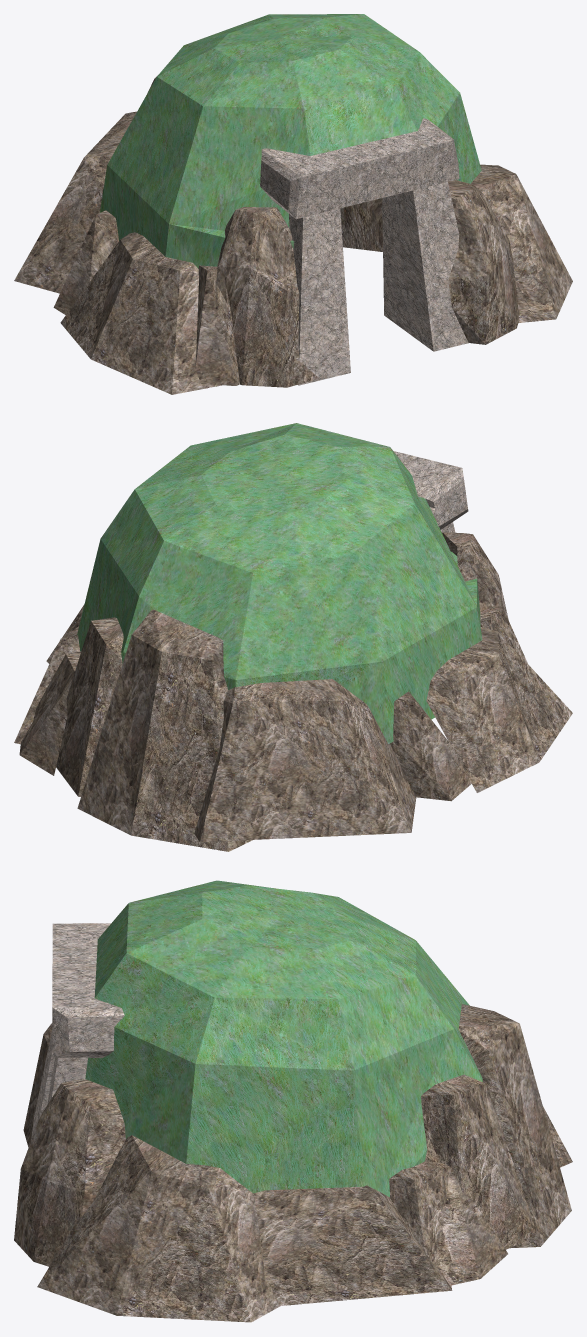
Rendered from thm_dath_mtn_clan_hut_s01_l2.fbx.
3 views of the same model, one above another, from view 1: azimuth 30°, elevation 25°; view 2: azimuth 150°, elevation 25°; view 3: azimuth 270°, elevation 25° (orthographic). The views are drawn at different scales.
Parts seen in each view (by area): view 1: mesh_node; view 2: mesh_node; view 3: mesh_node.
Part boxes in pixels (left/top/right/bottom): mesh_node: left=14, top=14, right=572, bottom=394; mesh_node: left=14, top=423, right=572, bottom=851; mesh_node: left=14, top=880, right=572, bottom=1322.
Bounding box in the file's own units: 13.13 × 7.25 × 12.27.
